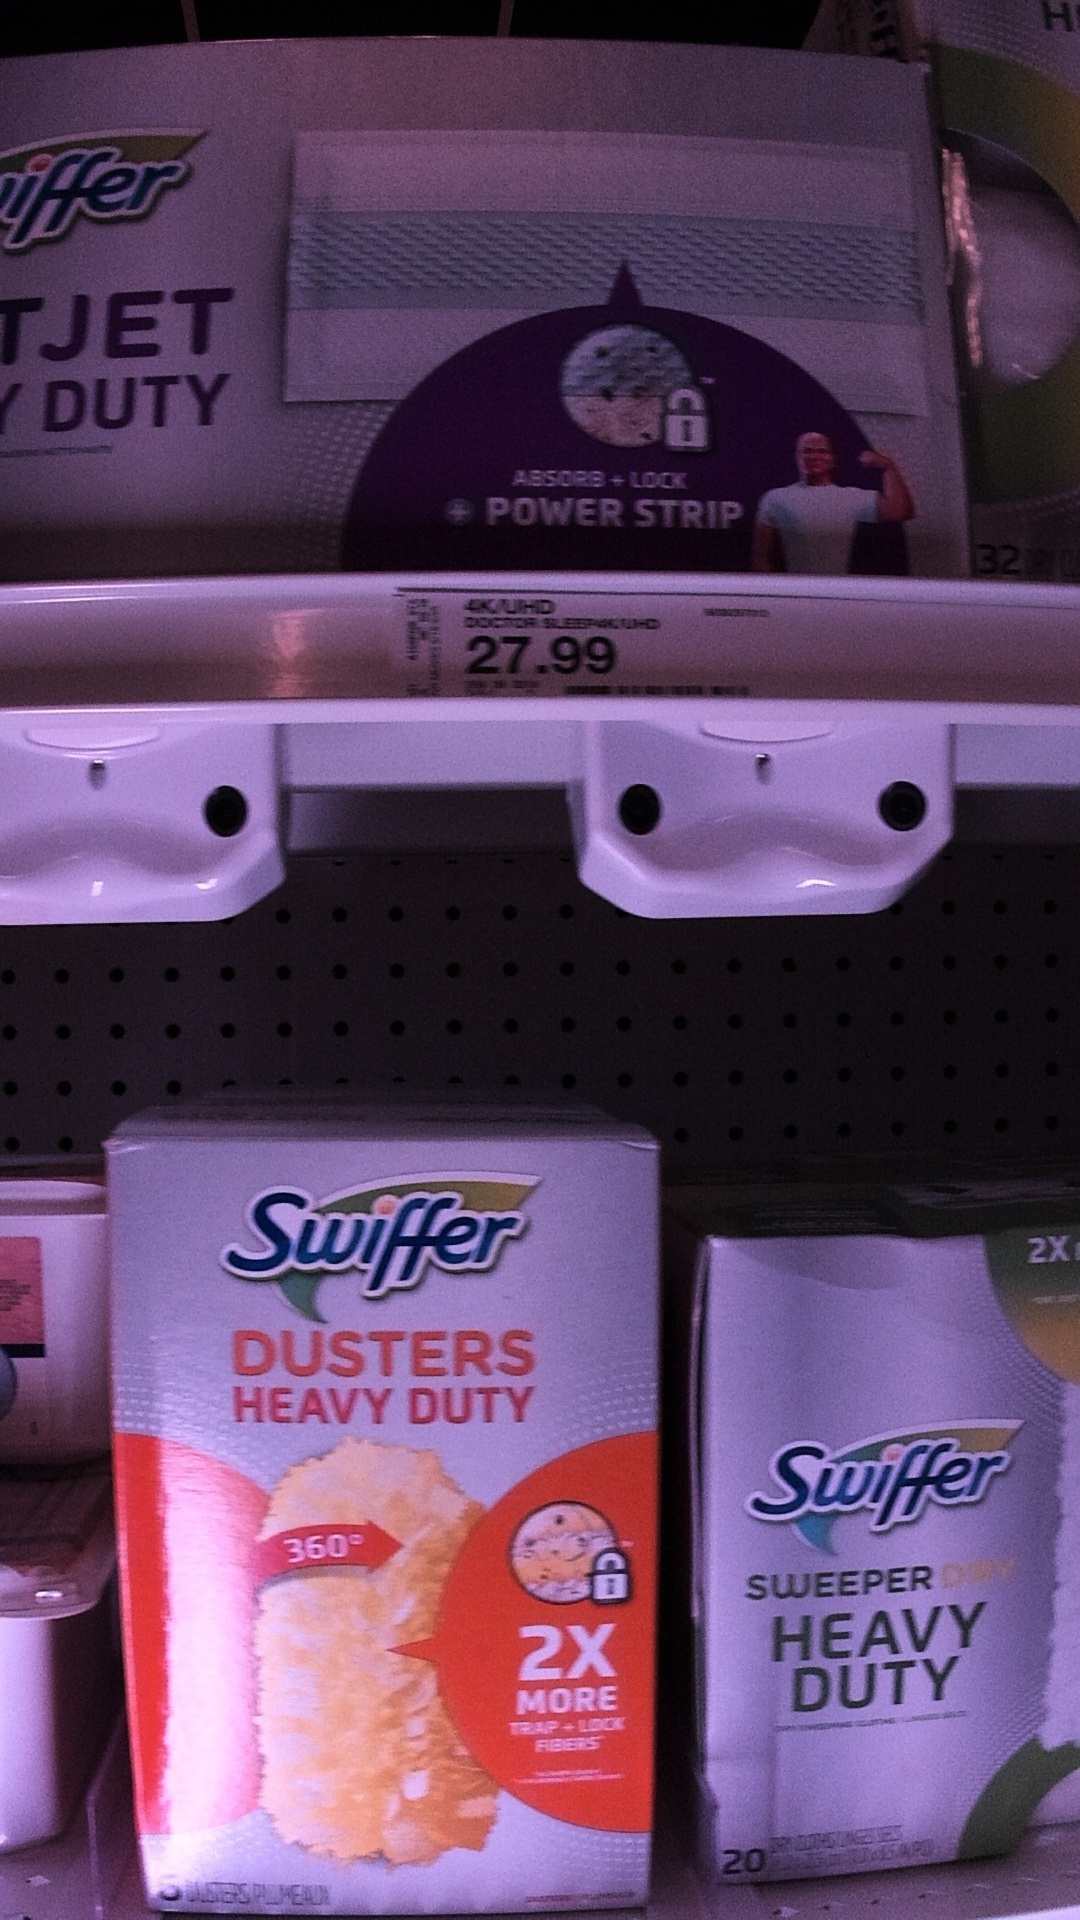ptag: (386, 580, 806, 711)
